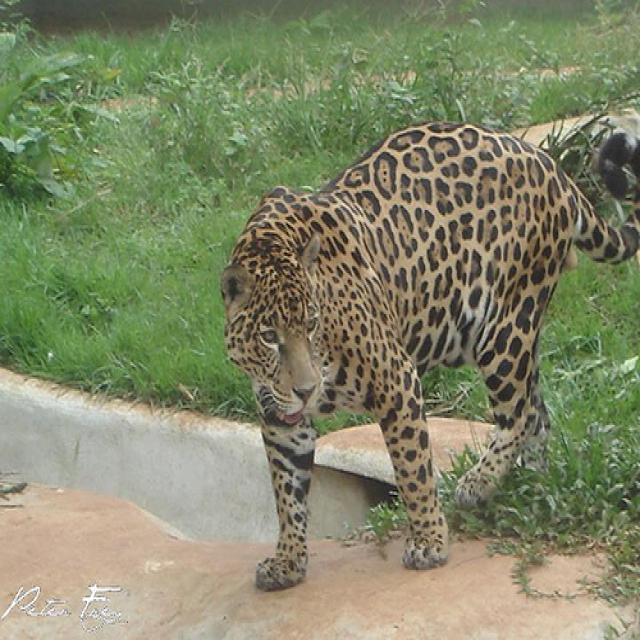Leopard: (215, 116, 637, 592)
